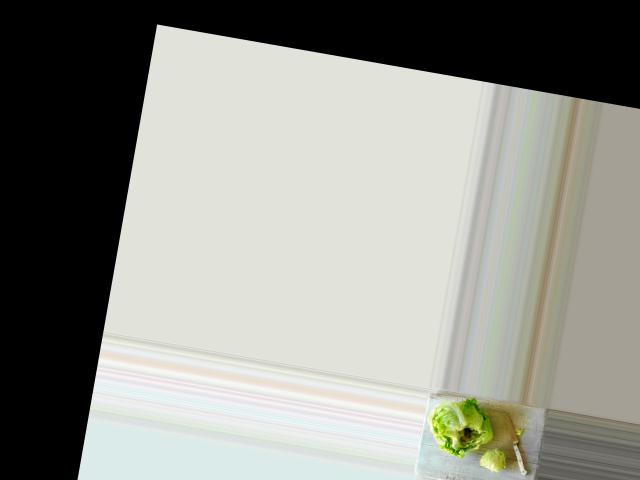lettuce: (420, 393, 492, 460)
